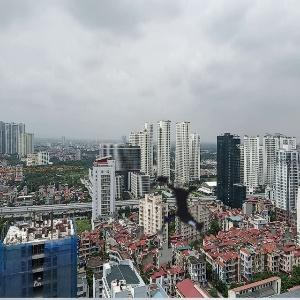drone: (117, 148, 240, 271)
